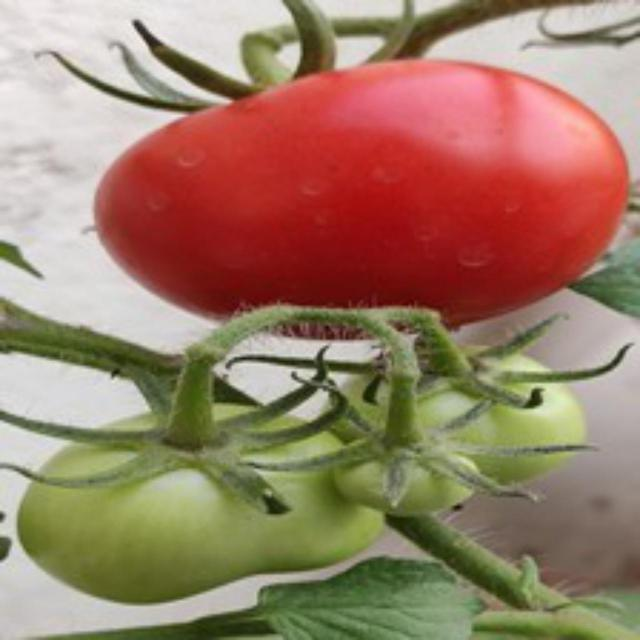tomato: (80, 72, 637, 328)
